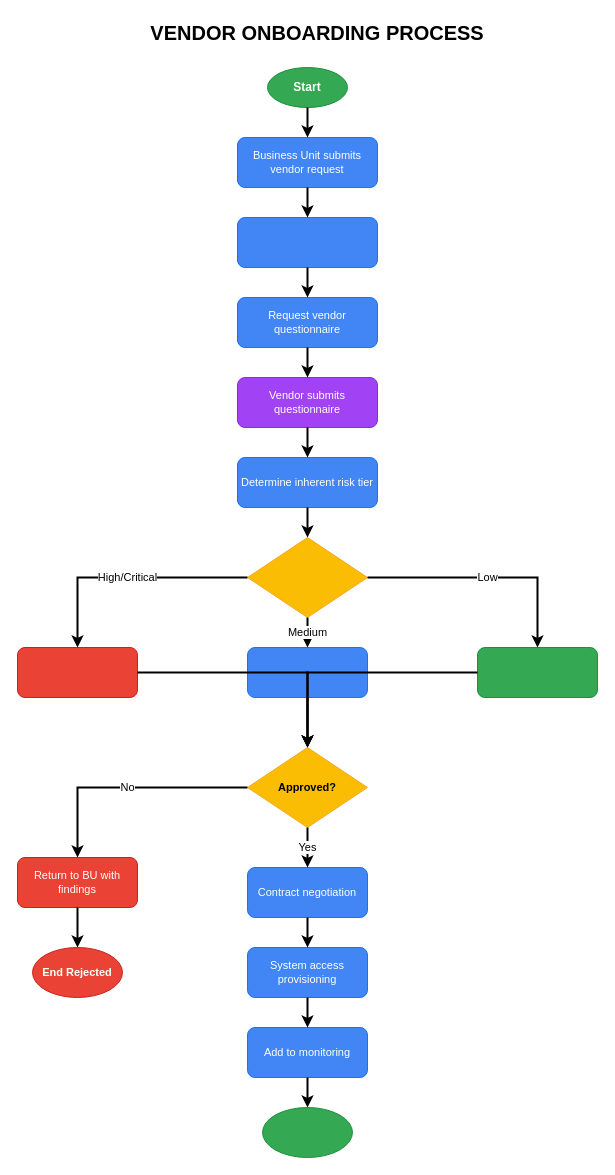
Image size: 615x1175. Some labels were removed from this diagram. Here are the shapes that lost their labels. From the top down, the centre of each, then its label:
point 307,242: TPRM Team reviews request
point 307,577: Risk Tier?
point 77,672: Enhanced Due Diligence
point 307,672: Standard Due Diligence
point 537,672: Limited Due Diligence
point 307,1132: End Active
